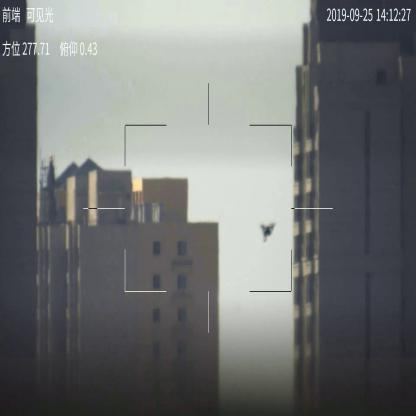uav: (258, 223, 277, 242)
